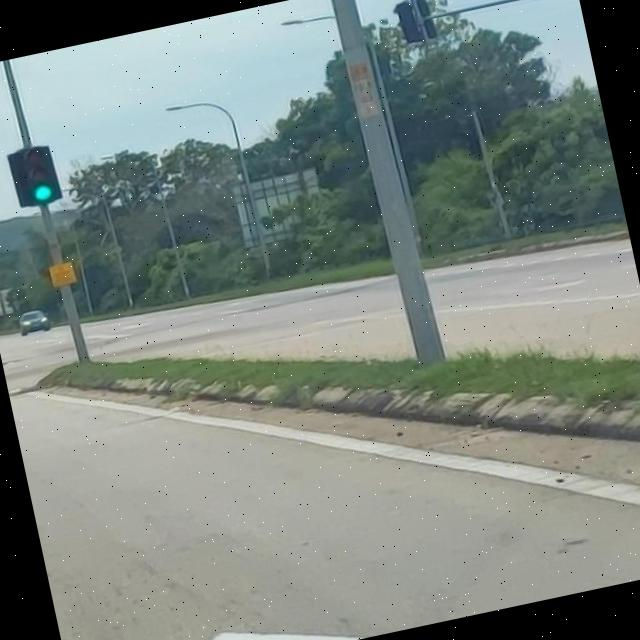green_light: (18, 144, 56, 206)
